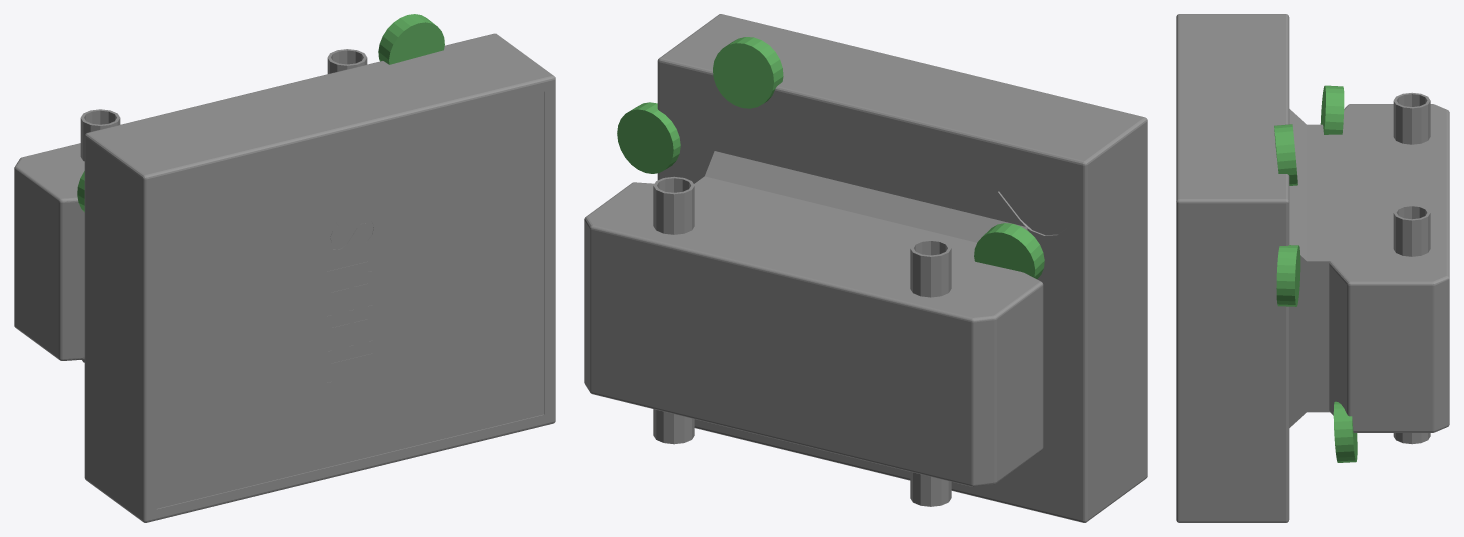
The model's file is rbsummit_steel_policy_bo32.glb.
The picture shows the model from 3 angles, left to right: view 1: azimuth 30°, elevation 25°; view 2: azimuth 150°, elevation 25°; view 3: azimuth 270°, elevation 25°; orthographic projection. The views are drawn at different scales.
Parts seen in each view (by area): view 1: rbsummit_steel_chassis.stl, world; view 2: rbsummit_steel_chassis.stl, world; view 3: rbsummit_steel_chassis.stl, world.
Boxes of the visible parts, x1,y1,x2,y2 form: rbsummit_steel_chassis.stl: (14,33,555,522); world: (77,14,444,212); rbsummit_steel_chassis.stl: (584,14,1147,522); world: (617,37,1044,278); rbsummit_steel_chassis.stl: (1176,14,1449,522); world: (1274,85,1357,462).
Size of the model in its own units: 0.7795 by 0.6396 by 0.4431.
